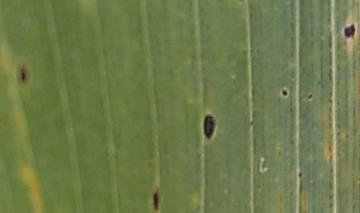tarspot: (205, 115, 216, 140), (343, 23, 357, 39), (153, 192, 159, 211), (20, 69, 28, 81), (281, 87, 289, 97), (297, 170, 304, 179), (307, 92, 313, 100)
